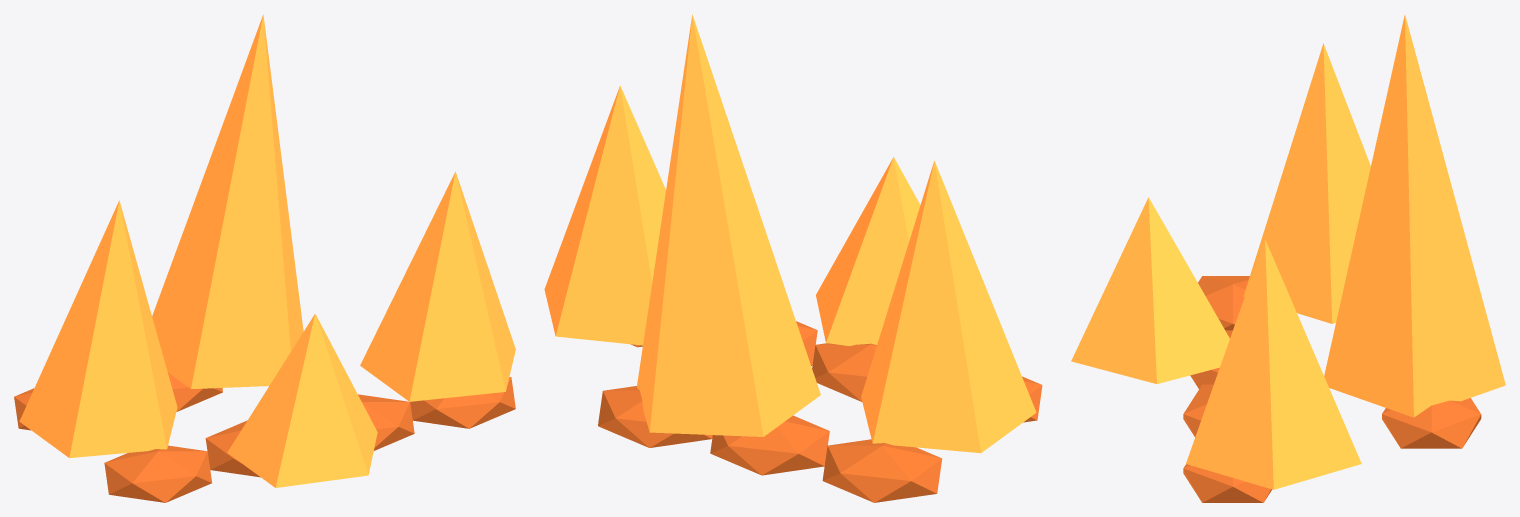
File: oven-fire.glb
The picture shows the model from 3 angles, left to right: view 1: azimuth 30°, elevation 25°; view 2: azimuth 150°, elevation 25°; view 3: azimuth 270°, elevation 25°; orthographic projection. The views are drawn at different scales.
Visible parts, largest first — view 1: OvenFire_1_Amber, OvenFire_0_Amber, OvenFire_2_Amber, OvenFire_3_Amber, OvenFire_Coal, OvenFire_Coal.003, OvenFire_Coal.002, OvenFire_Coal.001, OvenFire_Coal.005; view 2: OvenFire_1_Amber, OvenFire_0_Amber, OvenFire_2_Amber, OvenFire_3_Amber, OvenFire_Coal.004, OvenFire_Coal.005, OvenFire_Coal.006, OvenFire_Coal.001; view 3: OvenFire_1_Amber, OvenFire_2_Amber, OvenFire_0_Amber, OvenFire_3_Amber, OvenFire_Coal.006, OvenFire_Coal.003, OvenFire_Coal, OvenFire_Coal.002.
Part boxes in pixels (<box>): OvenFire_1_Amber: <box>152,14,303,388</box>; OvenFire_0_Amber: <box>19,200,177,457</box>; OvenFire_2_Amber: <box>360,171,515,401</box>; OvenFire_3_Amber: <box>227,314,377,487</box>; OvenFire_Coal: <box>104,445,211,502</box>; OvenFire_Coal.003: <box>410,377,515,428</box>; OvenFire_Coal.002: <box>358,394,414,450</box>; OvenFire_Coal.001: <box>205,420,260,477</box>; OvenFire_Coal.005: <box>168,372,222,411</box>; OvenFire_1_Amber: <box>636,14,820,436</box>; OvenFire_0_Amber: <box>861,161,1036,453</box>; OvenFire_2_Amber: <box>544,85,665,345</box>; OvenFire_3_Amber: <box>816,157,920,346</box>; OvenFire_Coal.004: <box>822,439,942,502</box>; OvenFire_Coal.005: <box>710,415,829,475</box>; OvenFire_Coal.006: <box>598,386,712,447</box>; OvenFire_Coal.001: <box>812,343,876,401</box>; OvenFire_1_Amber: <box>1324,15,1505,417</box>; OvenFire_2_Amber: <box>1186,239,1361,489</box>; OvenFire_0_Amber: <box>1243,43,1370,323</box>; OvenFire_3_Amber: <box>1071,197,1229,383</box>; OvenFire_Coal.006: <box>1382,398,1481,448</box>; OvenFire_Coal.003: <box>1183,464,1271,502</box>; OvenFire_Coal: <box>1198,276,1249,330</box>; OvenFire_Coal.002: <box>1183,384,1213,437</box>.
Size of the model in its own units: 0.967 by 0.7863 by 0.7447.
